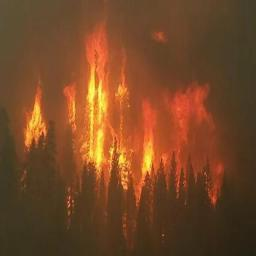Large fire: (74, 24, 119, 227)
Medium fire: (132, 96, 210, 224), (20, 75, 51, 222)
